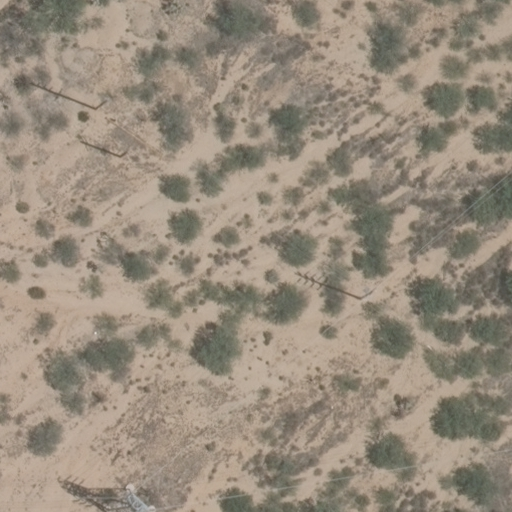DT: (358, 286, 379, 302), (91, 97, 108, 113), (117, 142, 131, 161)
TT: (108, 488, 155, 512)
